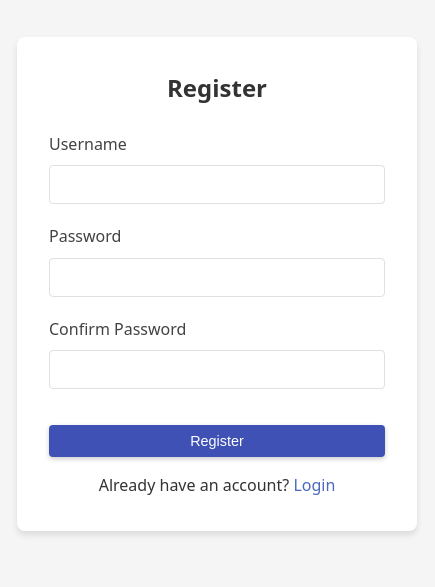
Test: Register Component › submits form with valid data
The width and height of the screenshot is (435, 587).
In the field labelled "Username": (217, 185) 49,165 -> 385,204, type "testuser"
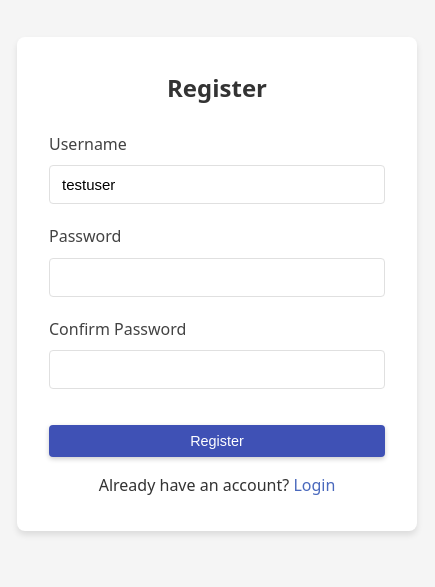
In the password field labelled "Password": (217, 277) 49,258 -> 385,297, type "password123"
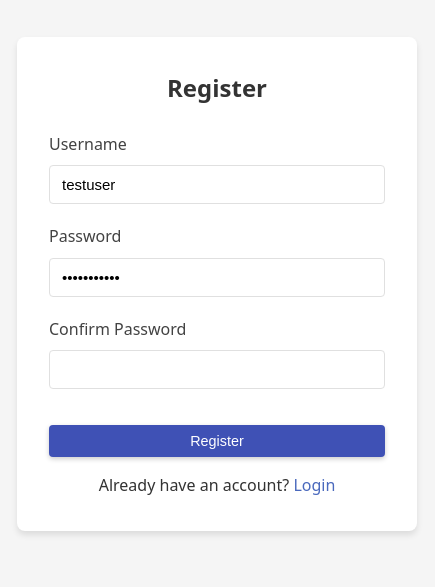
In the password field labelled "Confirm Password": (217, 370) 49,350 -> 385,389, type "password123"
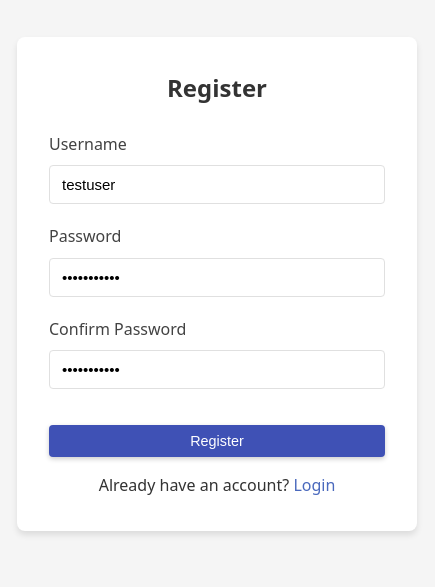
Click the button "Register": (217, 441) 49,425 -> 385,457
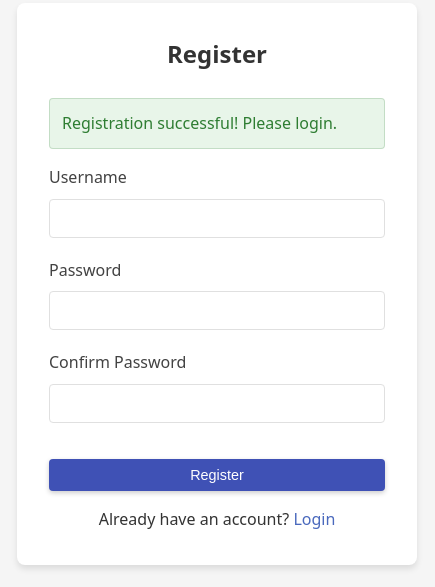
Expected: the text "Registration successful! Please login." is shown, 49,98 -> 385,149
Expected: the field labelled "Username" is empty, 49,199 -> 385,238
Expected: the password field labelled "Password" is empty, 49,292 -> 385,330
